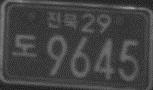2: (80, 11, 96, 34)
4: (93, 38, 116, 81)
5: (117, 39, 141, 83)
6: (70, 37, 91, 79)
9: (46, 34, 68, 76), (97, 13, 112, 35)
도: (12, 33, 39, 60)
전북_O: (46, 10, 79, 32)
